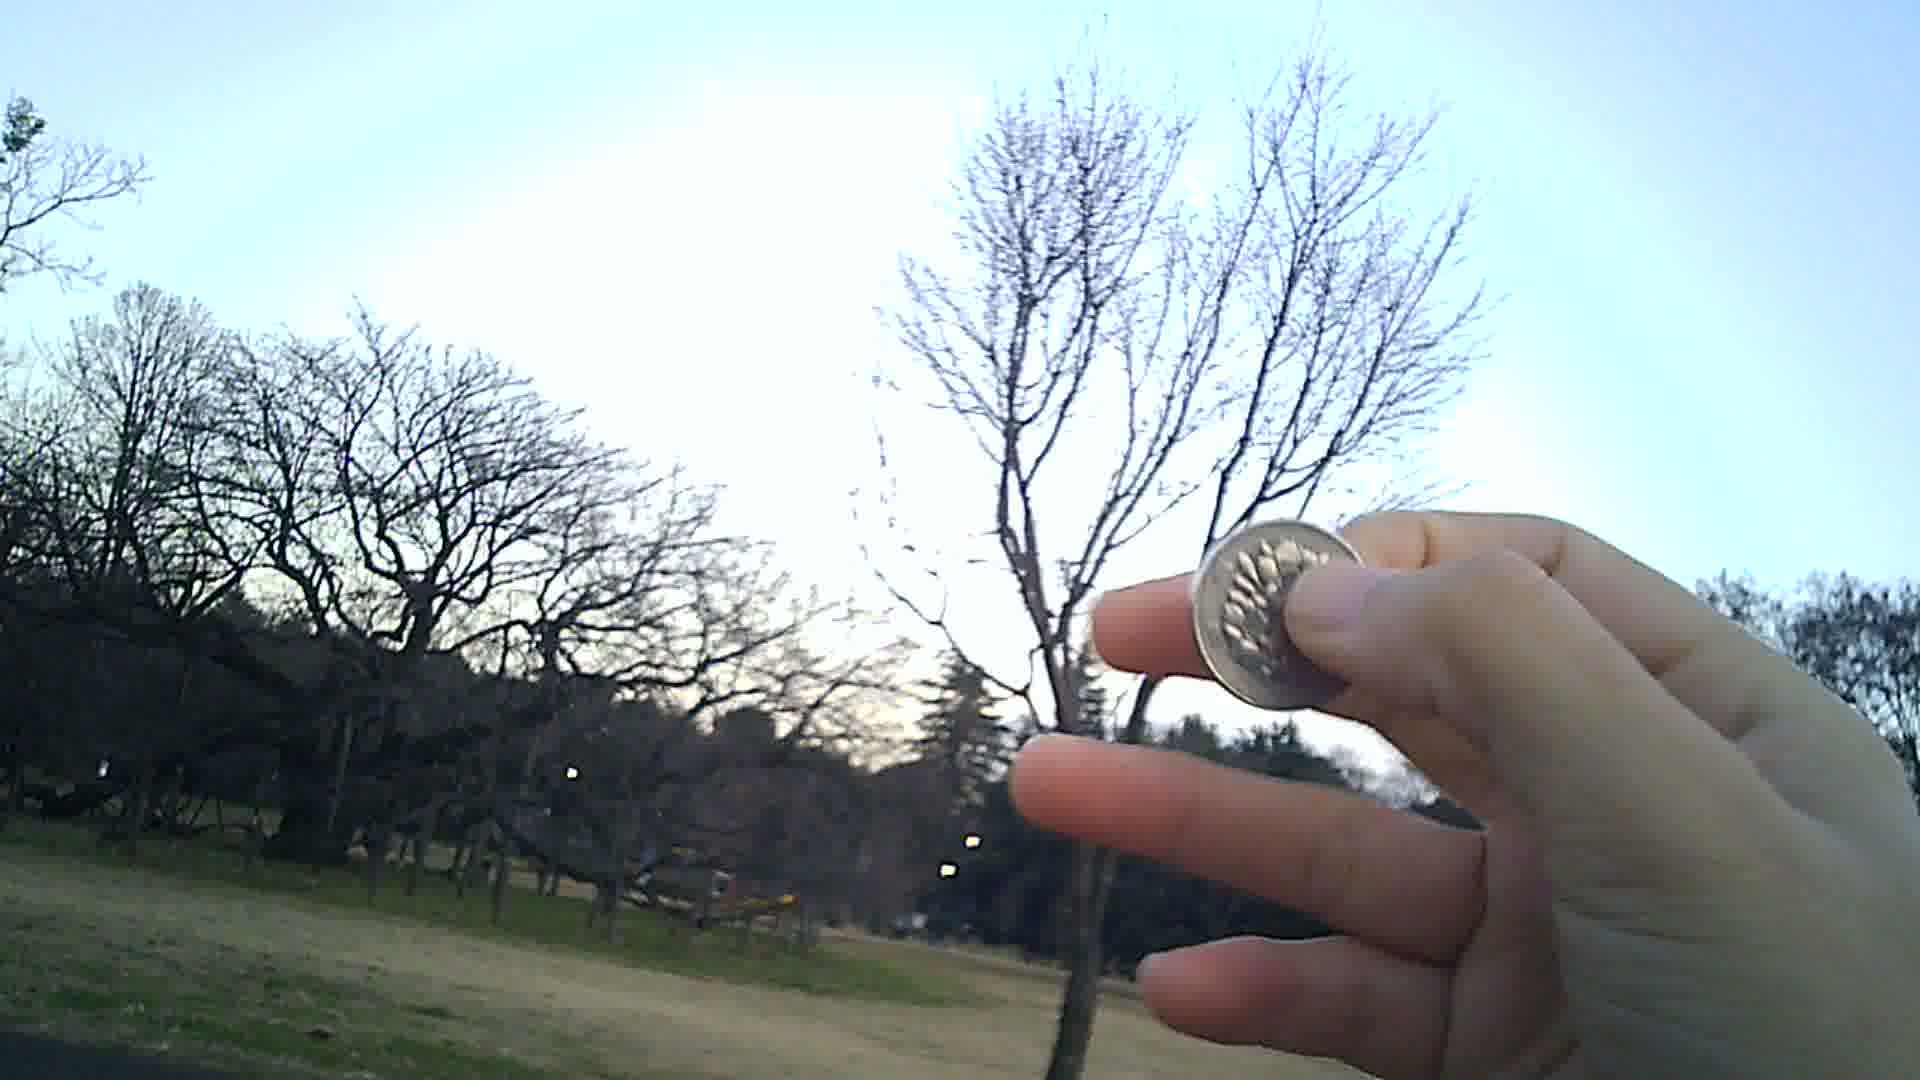100 Yen: (1191, 514, 1371, 713)
